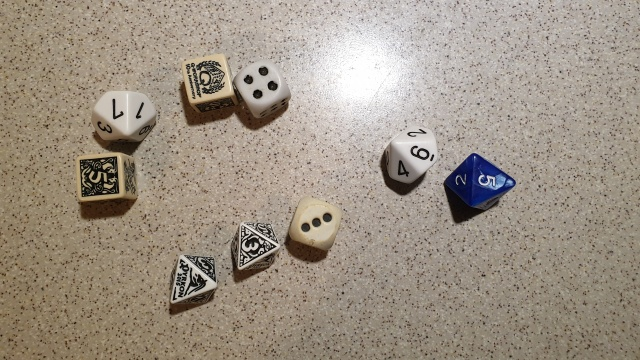d10-5: (445, 150, 515, 216)
d10-6: (373, 120, 442, 188)
d10-7: (88, 87, 156, 147)
d6-3: (284, 192, 345, 254)
d6-4: (232, 56, 293, 123)
d6p-5: (72, 151, 141, 208)
d6p-6: (176, 52, 236, 118)
d8p-1: (164, 248, 220, 314)
d8p-3: (227, 219, 279, 279)
